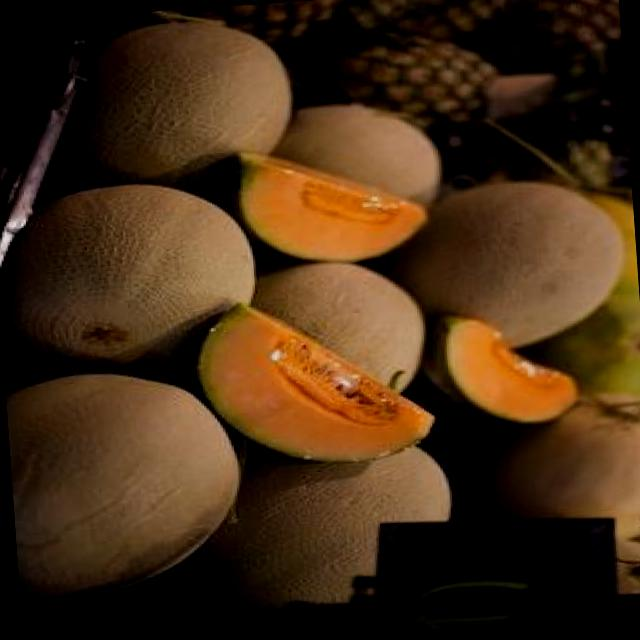cantaloupe: (4, 367, 252, 603), (0, 178, 266, 381), (192, 295, 436, 475), (66, 17, 291, 194), (224, 138, 434, 270), (417, 304, 579, 437)
